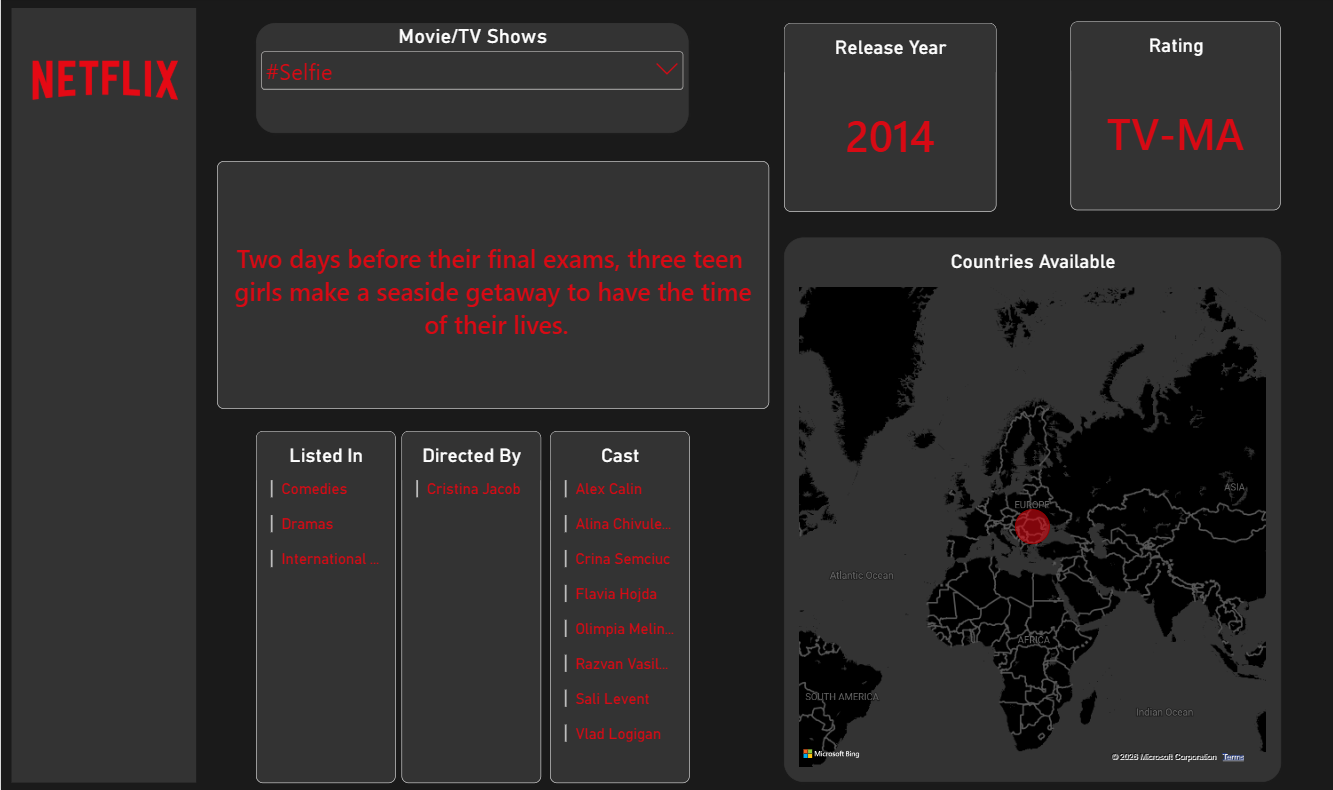

This screenshot's page, from the dashboard's own definition file:
{"tool":"powerbi","page":{"name":"Single Title View","canvas":[1500,900],"ordinal":1},"visuals":[{"type":"shape","box":[11.1,13.3,208.2,872.5],"z":0},{"type":"map","title":"Countries Available","fields":{"Category":["netflix_data countries_released.country"],"Size":["CountNonNull(netflix_data countries_released.show_id)"]},"box":[881.4,272.4,560.3,613.4],"z":4000},{"type":"image","box":[17.7,28.8,201.5,126.2],"z":5000},{"type":"slicer","title":"Movie/TV Shows","fields":{"Values":["netflix_data netflix_titles.title"]},"box":[287.9,31,487.2,124],"z":5002},{"type":"card","fields":{"Values":["Min(netflix_data description.description)"]},"box":[243.6,186,622.3,279],"z":5005},{"type":"card","title":"Rating","fields":{"Values":["Min(netflix_data netflix_titles.rating)"]},"box":[1204.7,28.8,237,212.6],"z":5006},{"type":"card","title":"Release Year","fields":{"Values":["Sum(netflix_data netflix_titles.release_year)"]},"box":[881.4,31,239.2,212.6],"z":5007},{"type":"multiRowCard","title":"Cast","fields":{"Values":["netflix_data netflix_cast.cast"]},"box":[617.9,489.4,157.2,396.4],"z":5008},{"type":"multiRowCard","title":"Directed By","fields":{"Values":["netflix_data netflix_directors.director"]},"box":[451.8,489.4,157.2,396.4],"z":5009},{"type":"multiRowCard","title":"Listed In","fields":{"Values":["netflix_data netflix_listed_in.category"]},"box":[287.9,489.4,157.2,396.4],"z":5010}]}

Visuals, with their boxes in screenshot pixels (x1, y1, x2, y2), scaled from the page's 1500x900 canvas onto the 1333x790 screenshot:
shape: {"left": 10, "top": 12, "right": 195, "bottom": 778}
"Countries Available" map: {"left": 783, "top": 239, "right": 1281, "bottom": 778}
image: {"left": 16, "top": 25, "right": 195, "bottom": 136}
"Movie/TV Shows" slicer: {"left": 256, "top": 27, "right": 689, "bottom": 136}
card - Min(netflix_data description.description): {"left": 216, "top": 163, "right": 769, "bottom": 408}
"Rating" card: {"left": 1071, "top": 25, "right": 1281, "bottom": 212}
"Release Year" card: {"left": 783, "top": 27, "right": 996, "bottom": 214}
"Cast" multiRowCard: {"left": 549, "top": 430, "right": 689, "bottom": 778}
"Directed By" multiRowCard: {"left": 401, "top": 430, "right": 541, "bottom": 778}
"Listed In" multiRowCard: {"left": 256, "top": 430, "right": 396, "bottom": 778}
